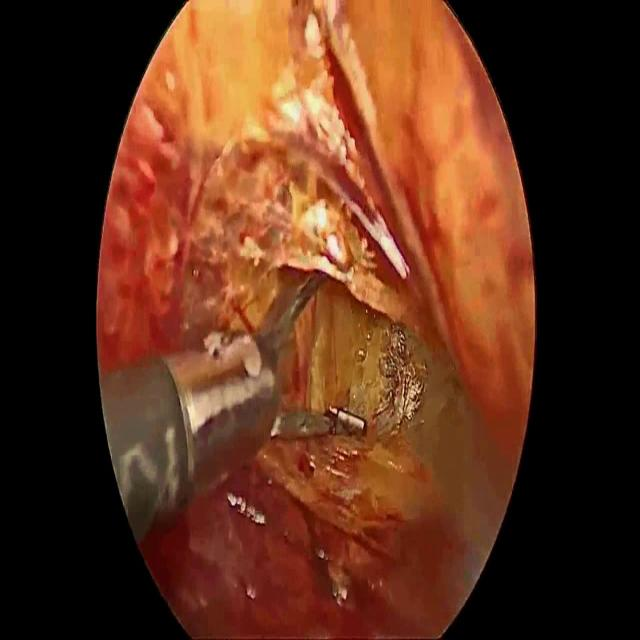surgical-area: (98, 0, 536, 639)
surgical-tool: (99, 270, 368, 546)
